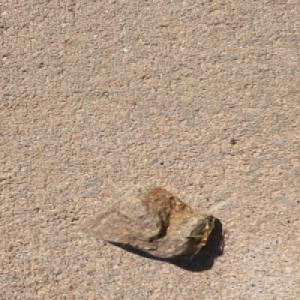Rock: (77, 181, 216, 258)
